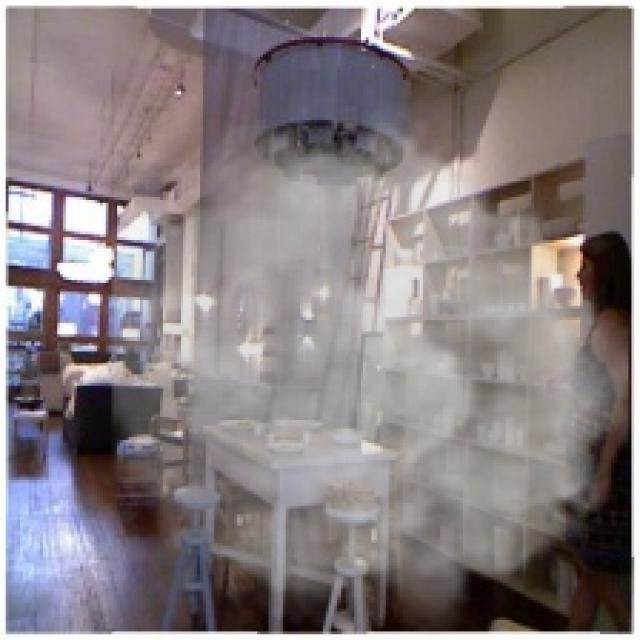smoke: (111, 100, 628, 637)
